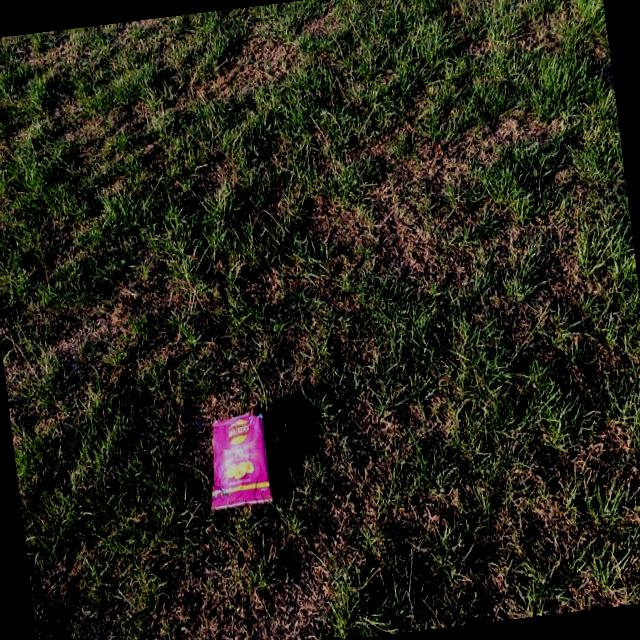Trash: (201, 408, 276, 511)
